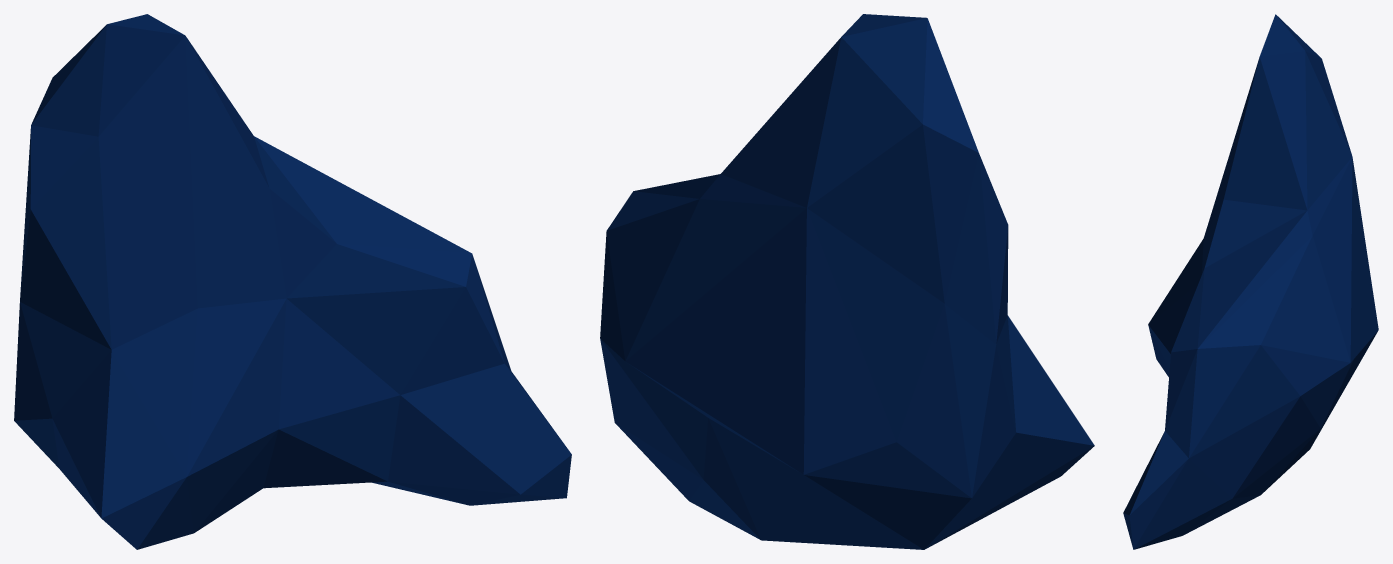
The model's file is Cave_stone_19.glb.
3 views of the same model, side by side, from view 1: azimuth 30°, elevation 25°; view 2: azimuth 150°, elevation 25°; view 3: azimuth 270°, elevation 25° (orthographic). The views are drawn at different scales.
Parts seen in each view (by area): view 1: Cave_stone_19; view 2: Cave_stone_19; view 3: Cave_stone_19.
Boxes of the visible parts, x1,y1,x2,y2 form: Cave_stone_19: (14,14,571,549); Cave_stone_19: (600,14,1094,549); Cave_stone_19: (1123,14,1378,549).
Bounding box in the file's own units: 1.91 × 2.08 × 1.19.
